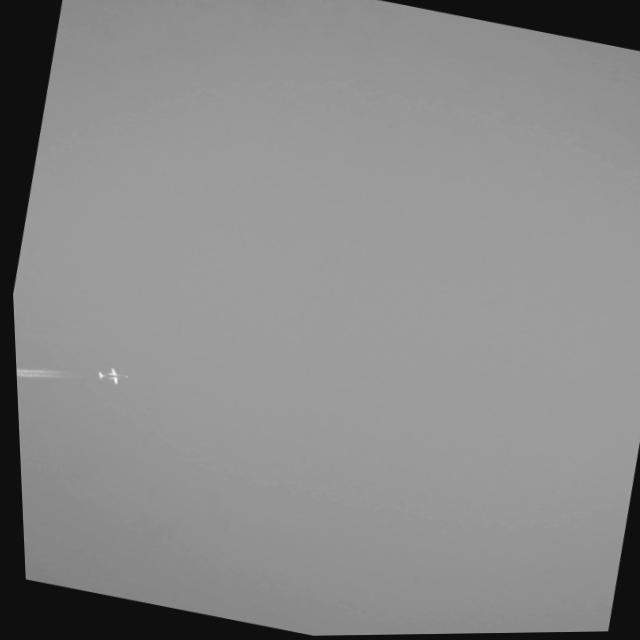aeroplane: (84, 359, 135, 391)
